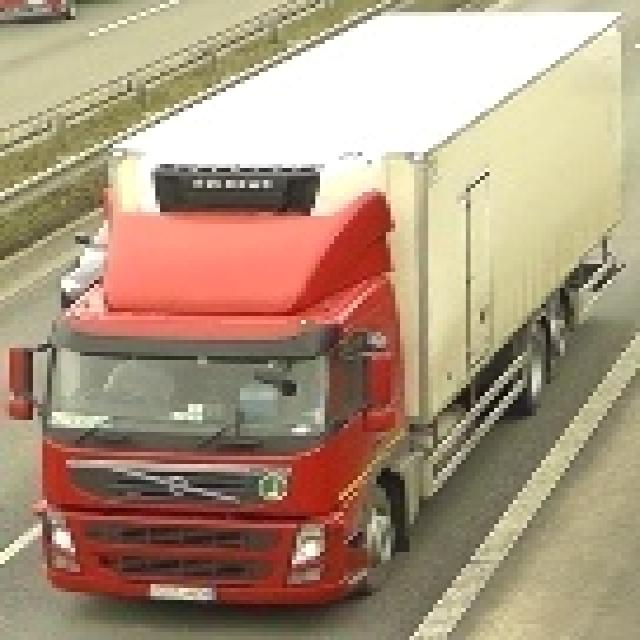TRUCK: (38, 8, 639, 614)
